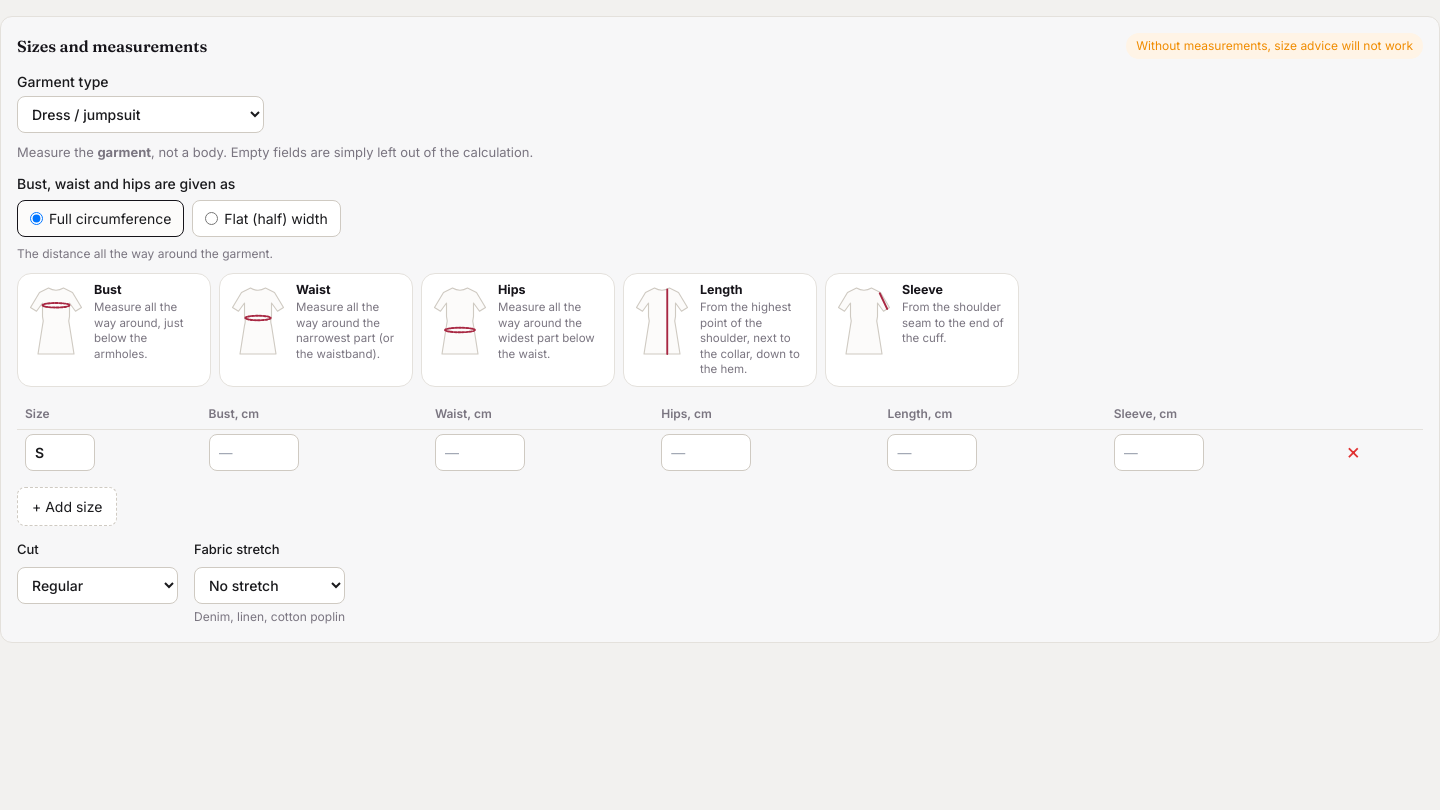
Scenario: "Flat (half) width": hints and headers switch, the diagram draws a straight line across
The width and height of the screenshot is (1440, 810).
expect the text "Measure all the way around, just below the armholes." is shown: met, box x1=94 y1=300 x2=184 y2=361
Click the radio button labelled "Flat (half) width".
click(212, 218)  # box x1=205 y1=212 x2=218 y2=224
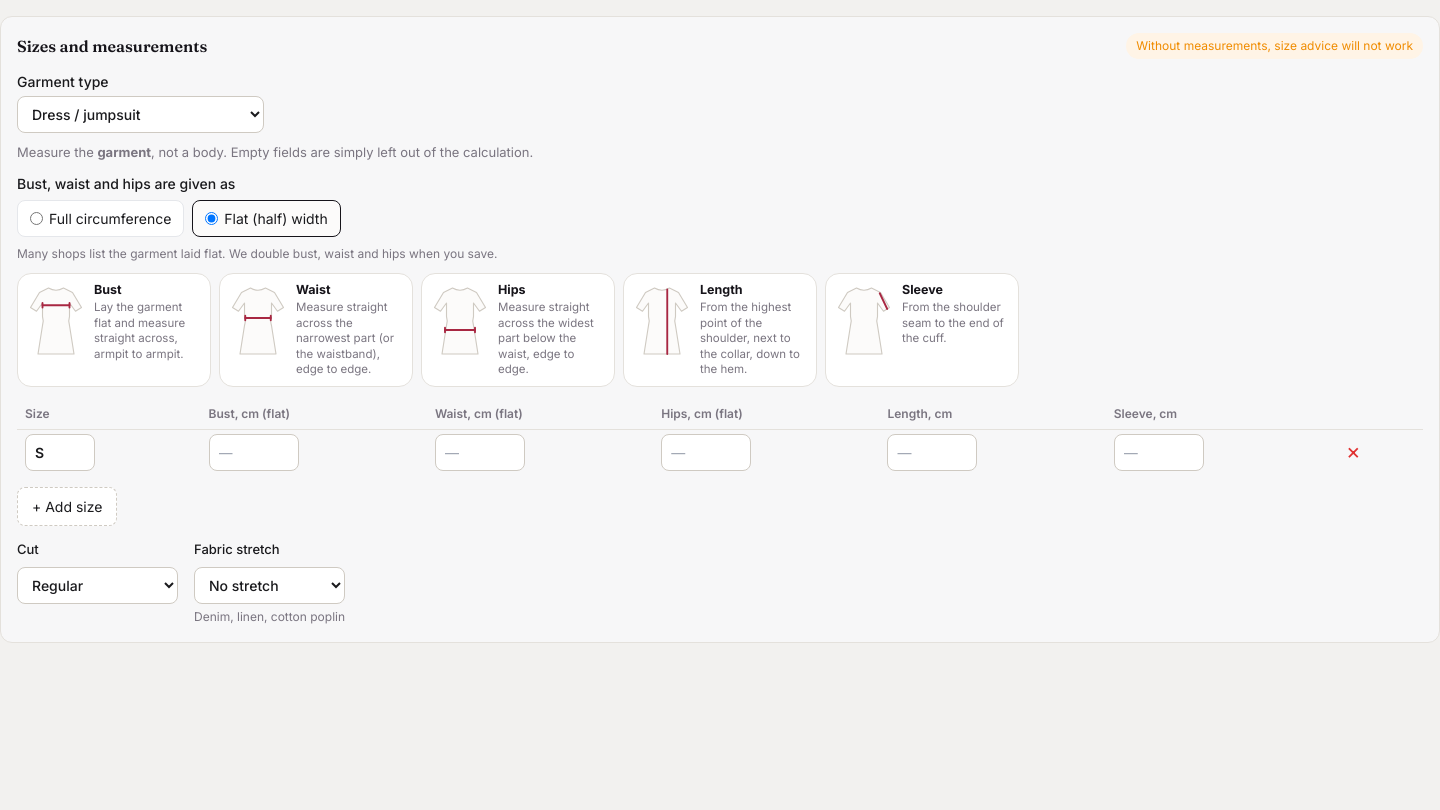
expect the text "Lay the garment flat and measure straight across, armpit to armpit." is shown: met, box x1=94 y1=300 x2=185 y2=361
expect the text "We double bust, waist and hips when you save" is shown: met, box x1=17 y1=246 x2=498 y2=260
expect the column heading "Bust, cm (flat)" is shown: met, box x1=201 y1=399 x2=427 y2=430
